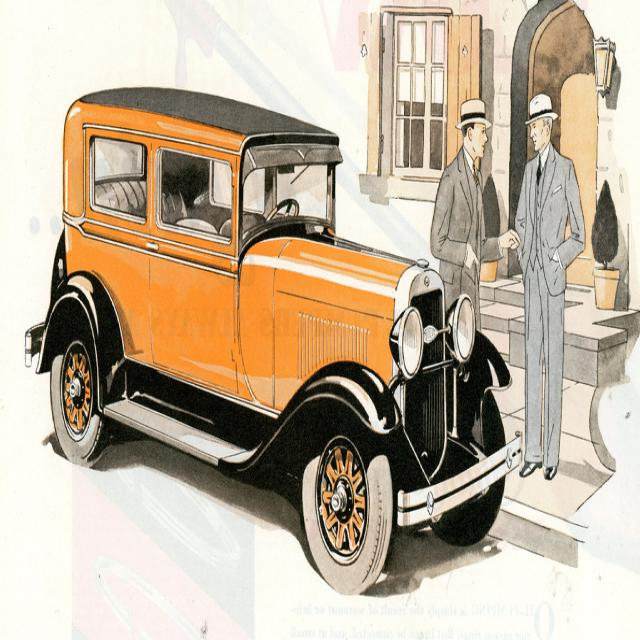car: (25, 81, 522, 594)
